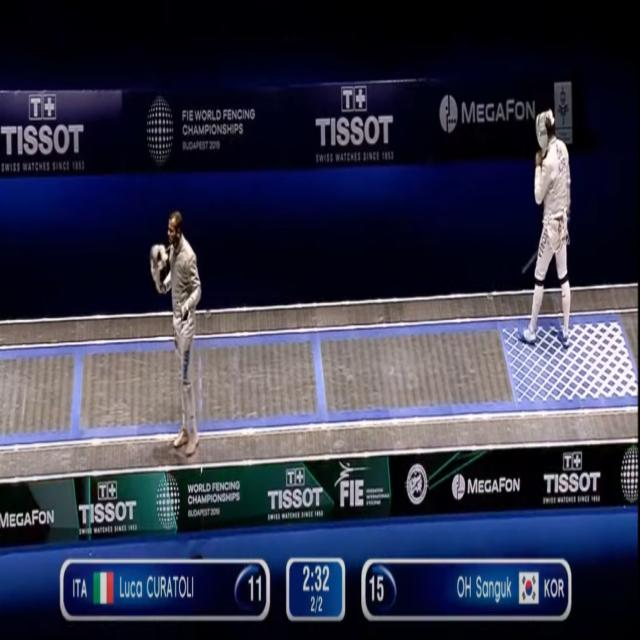fencer: (148, 214, 213, 451), (524, 102, 576, 348)
overlayLeft: (60, 561, 204, 620)
overlayRight: (423, 565, 567, 614)
scoreLeft: (211, 565, 263, 614)
scoreRight: (368, 567, 420, 611)
